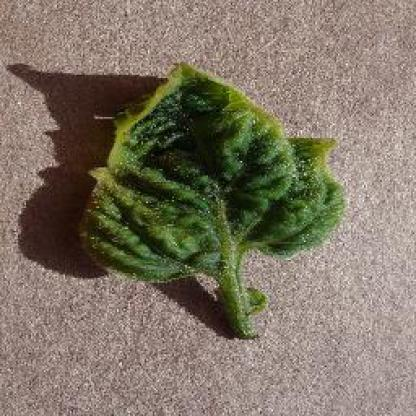bad leaf: (51, 64, 357, 335)
